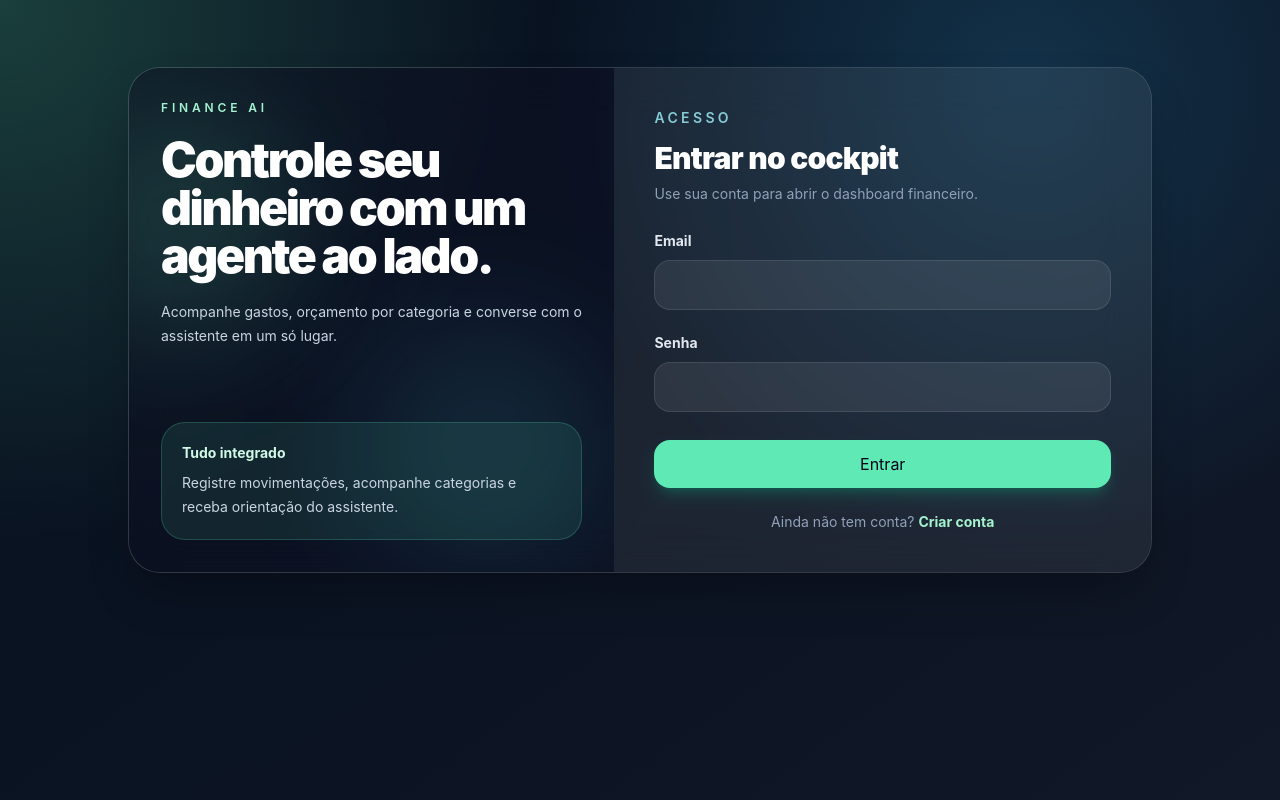
it: Login › submit com 401 exibe mensagem de erro sem navegar
Type "ana@example.com" into the field labelled "Email" at (883, 285), box left=654, top=260, right=1111, bottom=310
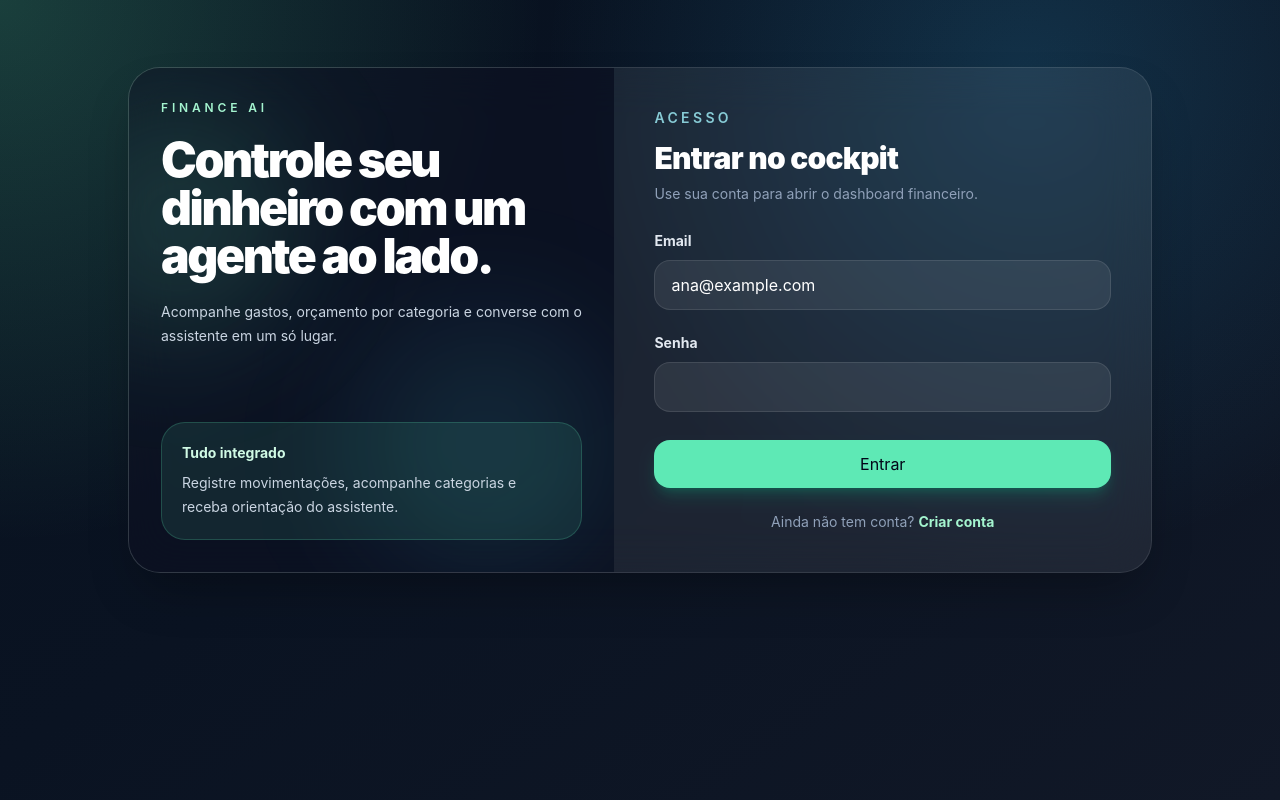
Type "wrongpass" into the password field labelled "Senha" at (883, 387), box left=654, top=362, right=1111, bottom=412
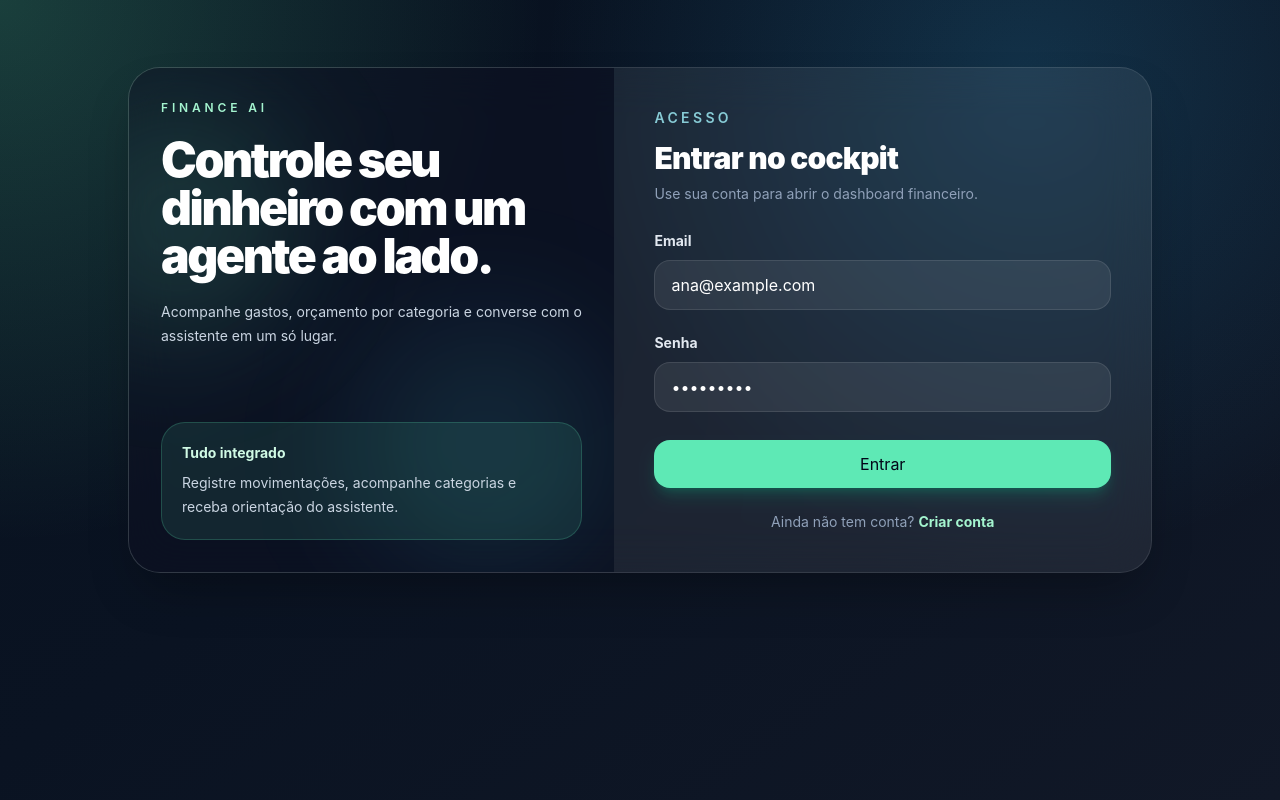
Click the button "Entrar" at (883, 464), box left=654, top=440, right=1111, bottom=488
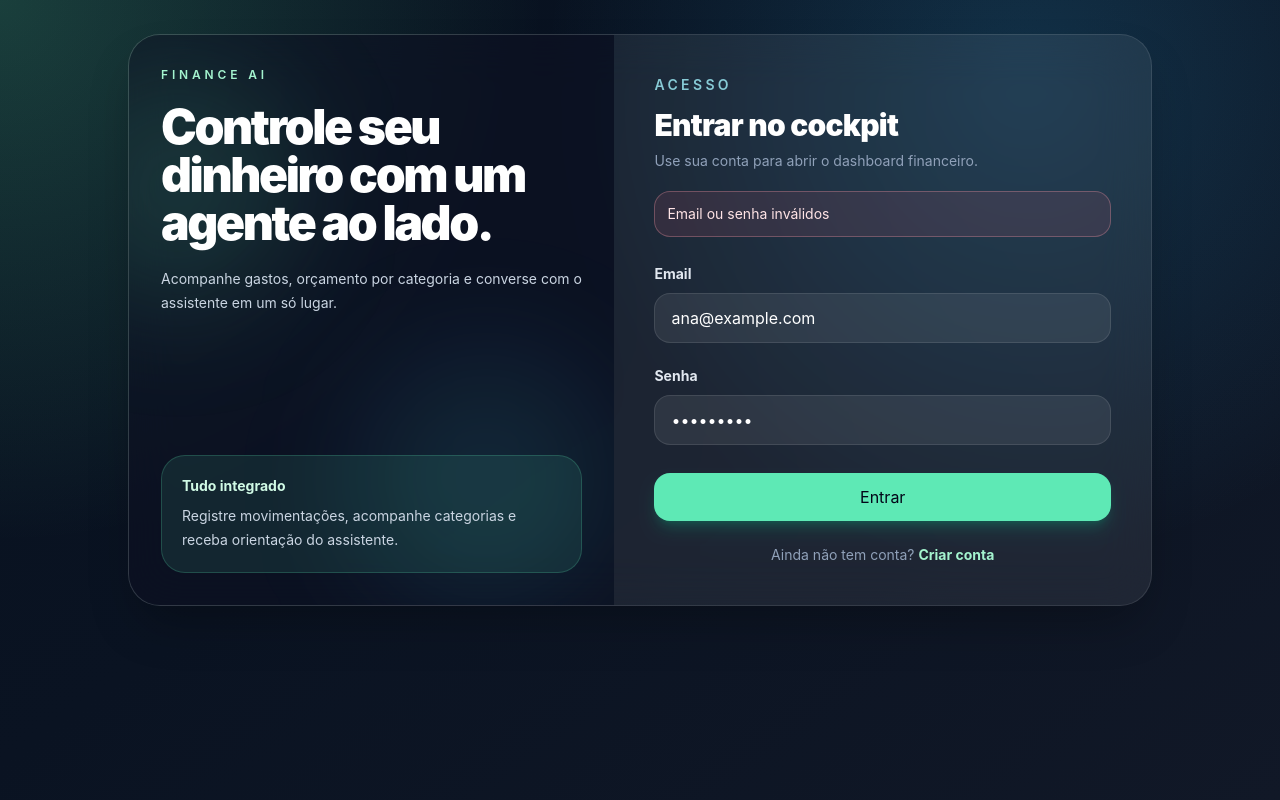
Check: the text "Email ou senha inválidos" is shown, box left=654, top=191, right=1111, bottom=237
